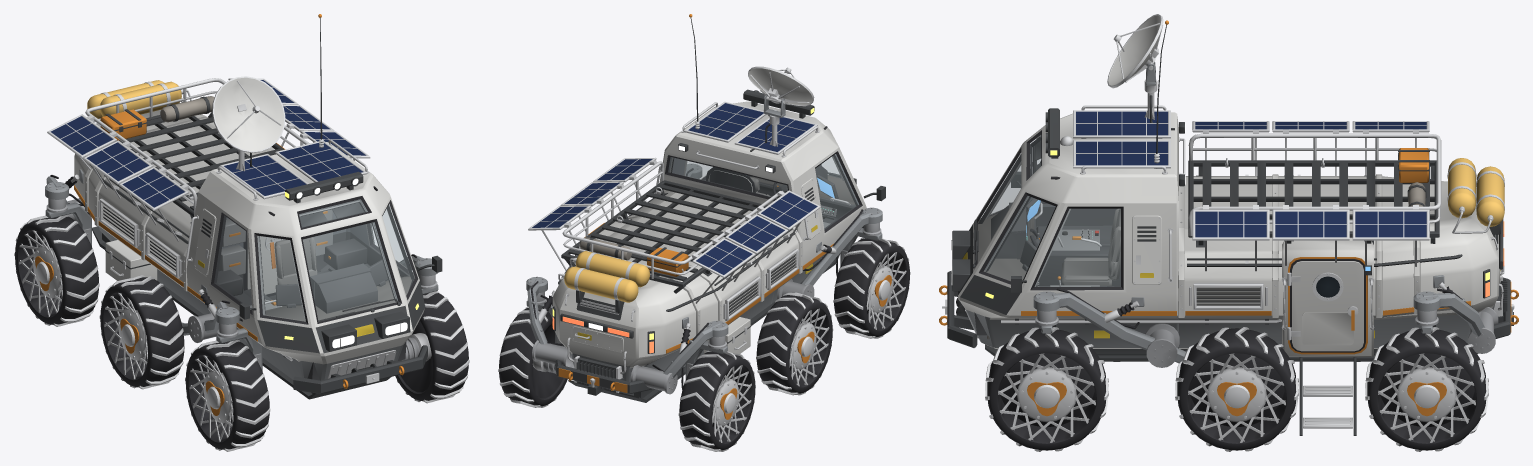
File: rover.glb
The picture shows the model from 3 angles, left to right: view 1: azimuth 30°, elevation 25°; view 2: azimuth 150°, elevation 25°; view 3: azimuth 270°, elevation 25°; orthographic projection. The views are drawn at different scales.
Parts seen in each view (by area): view 1: rover_mesh, cabin_mesh, wheel_MR_mesh, wheel_FR_mesh, wheel_RR_mesh, wheel_FL_mesh, dish_mesh, steer_RR_mesh, steer_FR_mesh, steer_FL_mesh; view 2: rover_mesh, wheel_MR_mesh, wheel_RR_mesh, wheel_FR_mesh, wheel_RL_mesh, cabin_mesh, dish_mesh, steer_RR_mesh, steer_FR_mesh; view 3: rover_mesh, wheel_ML_mesh, wheel_RL_mesh, wheel_FL_mesh, cabin_mesh, dish_mesh.
Part boxes in pixels (bbox=[...]): rover_mesh: bbox=[45, 14, 442, 399]; cabin_mesh: bbox=[214, 186, 414, 380]; wheel_MR_mesh: bbox=[99, 275, 184, 389]; wheel_FR_mesh: bbox=[185, 339, 270, 451]; wheel_RR_mesh: bbox=[14, 215, 99, 326]; wheel_FL_mesh: bbox=[395, 291, 469, 403]; dish_mesh: bbox=[212, 76, 285, 152]; steer_RR_mesh: bbox=[45, 193, 91, 246]; steer_FR_mesh: bbox=[216, 318, 262, 371]; steer_FL_mesh: bbox=[399, 274, 438, 361]; rover_mesh: bbox=[526, 14, 885, 402]; wheel_MR_mesh: bbox=[756, 292, 833, 395]; wheel_RR_mesh: bbox=[678, 350, 755, 451]; wheel_FR_mesh: bbox=[833, 237, 910, 338]; wheel_RL_mesh: bbox=[498, 306, 567, 407]; cabin_mesh: bbox=[668, 126, 858, 229]; dish_mesh: bbox=[748, 66, 814, 117]; steer_RR_mesh: bbox=[681, 336, 727, 389]; steer_FR_mesh: bbox=[836, 222, 882, 276]; rover_mesh: bbox=[939, 20, 1518, 435]; wheel_ML_mesh: bbox=[1175, 327, 1298, 451]; wheel_RL_mesh: bbox=[1365, 327, 1488, 451]; wheel_FL_mesh: bbox=[985, 327, 1108, 451]; cabin_mesh: bbox=[974, 136, 1120, 339]; dish_mesh: bbox=[1107, 14, 1163, 88].
Size of the model in its own units: 3 by 4.37 by 5.8.
